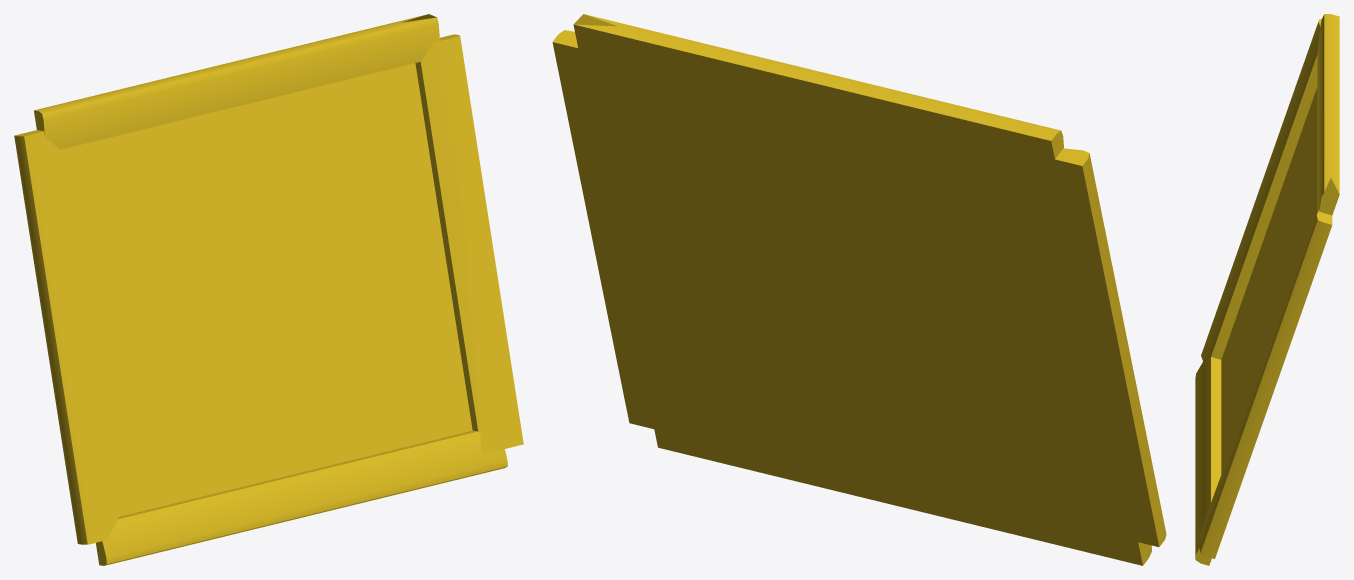
Rendered from Portrait 1.fbx.
The picture shows the model from 3 angles, left to right: view 1: azimuth 30°, elevation 25°; view 2: azimuth 150°, elevation 25°; view 3: azimuth 270°, elevation 25°; orthographic projection. The views are drawn at different scales.
Parts seen in each view (by area): view 1: Portrait 1; view 2: Portrait 1; view 3: Portrait 1.
Boxes of the visible parts, x1=… form: Portrait 1: x1=14, y1=14, x2=523, y2=565; Portrait 1: x1=552, y1=14, x2=1166, y2=565; Portrait 1: x1=1195, y1=14, x2=1339, y2=565.
Bounding box in the file's own units: 54.1 × 47.63 × 16.7.
